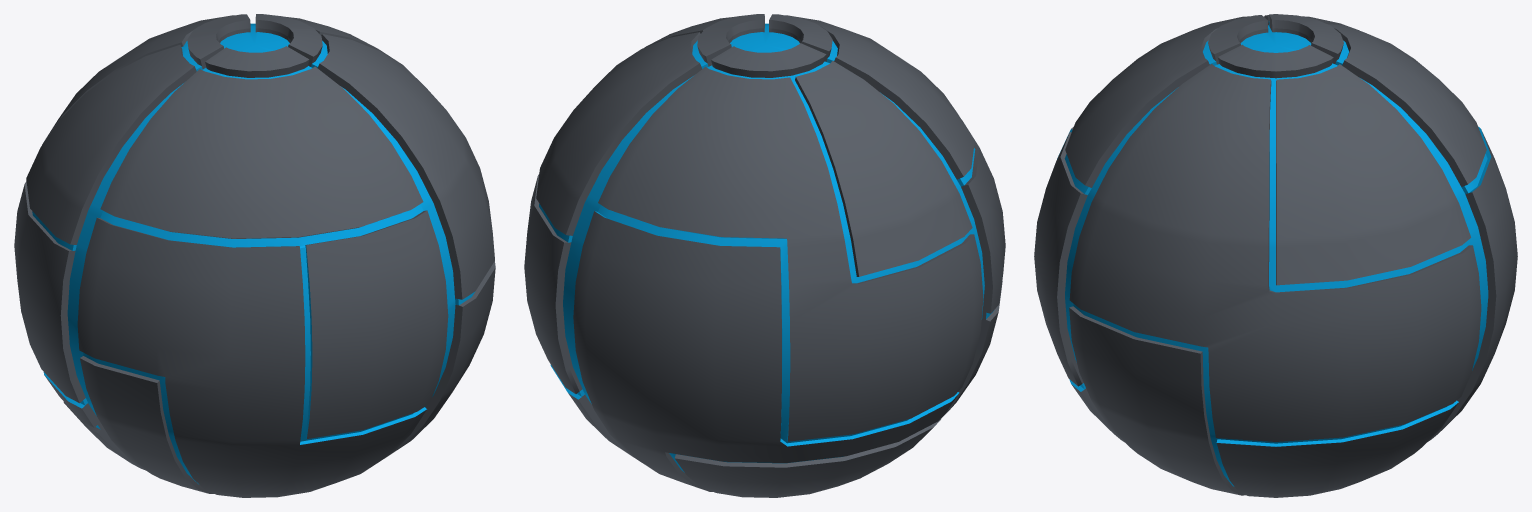
File: Ball.fbx
3 views of the same model, side by side, from view 1: azimuth 30°, elevation 25°; view 2: azimuth 150°, elevation 25°; view 3: azimuth 270°, elevation 25° (orthographic).
Visible parts, largest first — view 1: Ball; view 2: Ball; view 3: Ball.
Part boxes in pixels (<box>): Ball: <box>14,14,495,497</box>; Ball: <box>524,14,1005,497</box>; Ball: <box>1034,14,1517,497</box>.
Bounding box in the file's own units: 2.04 × 2.05 × 2.04.
